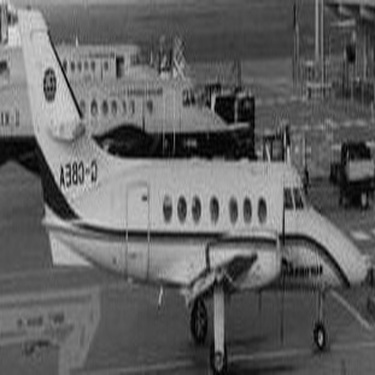airplane: (5, 1, 359, 361)
